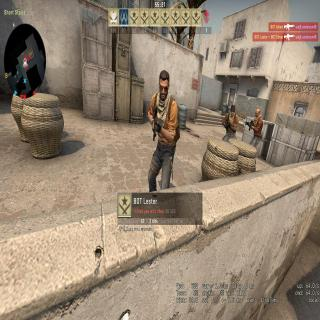T-Body: (145, 66, 180, 210), (223, 105, 238, 139), (250, 109, 262, 143)
T-Head: (159, 68, 170, 101), (230, 104, 235, 115), (255, 109, 259, 117)
